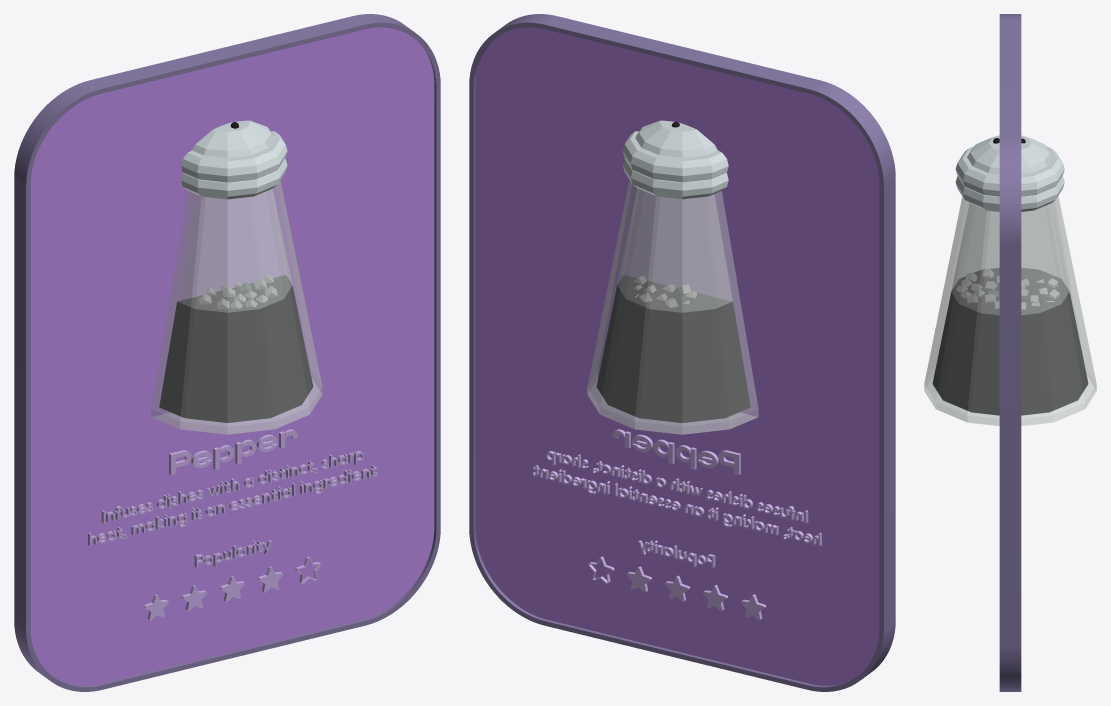
File: pepper.gltf
The picture shows the model from 3 angles, left to right: view 1: azimuth 30°, elevation 25°; view 2: azimuth 150°, elevation 25°; view 3: azimuth 270°, elevation 25°; orthographic projection. The views are drawn at different scales.
Parts seen in each view (by area): view 1: Mesh_2708.001, model.001, Mesh_2375.002, Mesh_2506.002, Mesh_2303.002, Mesh_2651.001; view 2: Mesh_2708.001, model.001, Mesh_2375.002, Mesh_2506.002, Mesh_2303.002, Mesh_2651.001; view 3: model.001, Mesh_2375.002.
Boxes of the visible parts, x1=… form: Mesh_2708.001: x1=30, y1=27, x2=434, y2=685; model.001: x1=151, y1=120, x2=322, y2=434; Mesh_2375.002: x1=14, y1=14, x2=440, y2=691; Mesh_2506.002: x1=88, y1=451, x2=377, y2=567; Mesh_2303.002: x1=169, y1=429, x2=297, y2=475; Mesh_2651.001: x1=143, y1=556, x2=321, y2=620; Mesh_2708.001: x1=475, y1=27, x2=879, y2=685; model.001: x1=587, y1=120, x2=758, y2=434; Mesh_2375.002: x1=469, y1=14, x2=895, y2=691; Mesh_2506.002: x1=532, y1=451, x2=821, y2=567; Mesh_2303.002: x1=612, y1=429, x2=740, y2=475; Mesh_2651.001: x1=588, y1=556, x2=766, y2=620; model.001: x1=924, y1=135, x2=1096, y2=425; Mesh_2375.002: x1=999, y1=14, x2=1021, y2=691.
Size of the model in its own units: 0.3625 by 0.5019 by 0.1436.
Materials: 39 (30 with a texture image).
